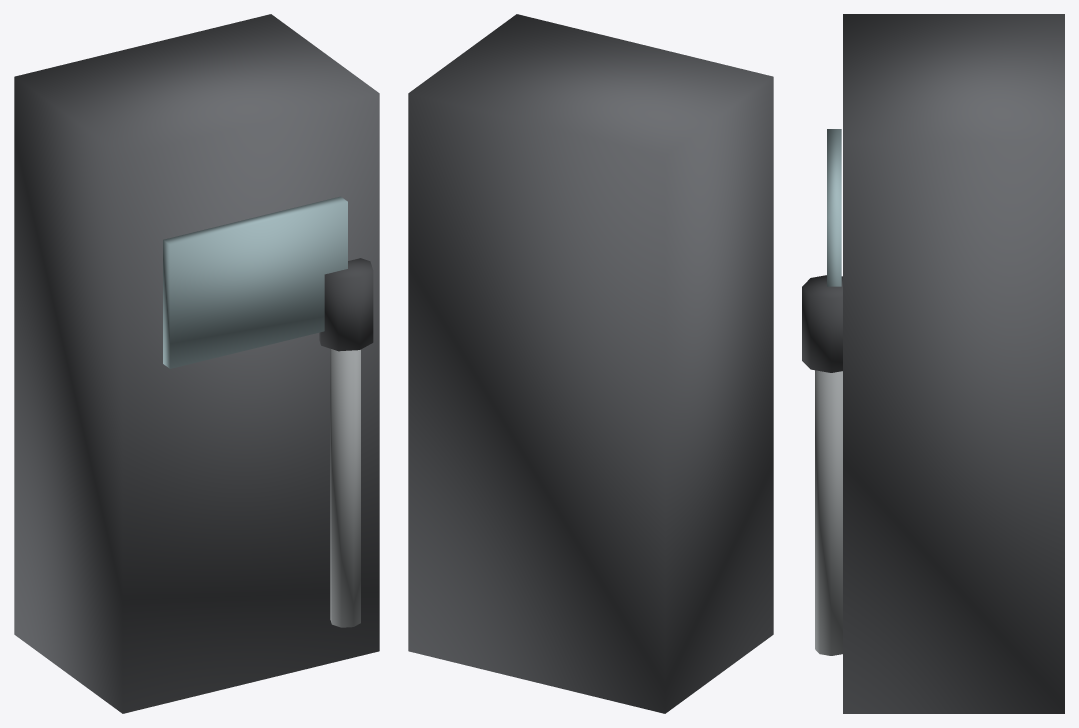
The model's file is karaoke_terminal.glb.
The picture shows the model from 3 angles, left to right: view 1: azimuth 30°, elevation 25°; view 2: azimuth 150°, elevation 25°; view 3: azimuth 270°, elevation 25°; orthographic projection. The views are drawn at different scales.
Visible parts, largest first — view 1: world; view 2: world; view 3: world.
Boxes of the visible parts, left/top/right/bottom form: world: left=14, top=14, right=379, bottom=713; world: left=408, top=14, right=773, bottom=713; world: left=802, top=14, right=1064, bottom=713.
Size of the model in its own units: 0.52 by 1.08 by 0.45.
